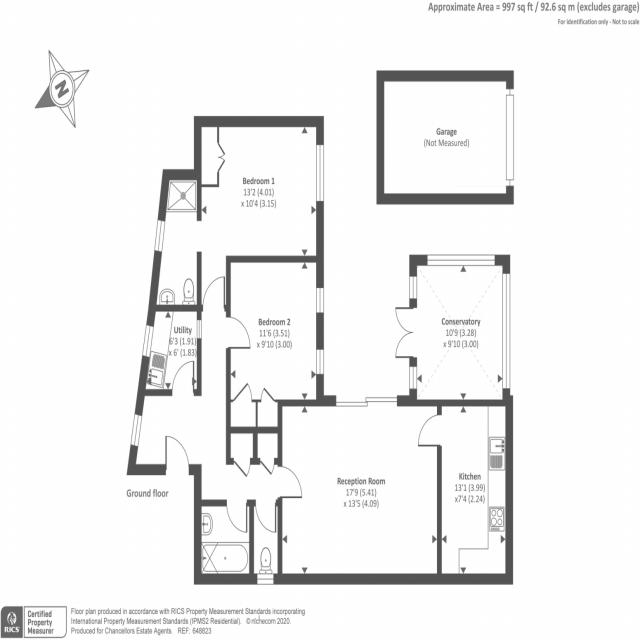DOOR: (395, 305, 417, 359), (165, 435, 190, 475), (202, 275, 226, 312), (417, 412, 442, 447), (171, 360, 195, 396), (226, 316, 251, 349), (278, 464, 302, 498), (225, 499, 248, 533), (255, 500, 277, 533)
ROOM: (277, 395, 443, 585), (194, 116, 324, 312), (417, 399, 514, 585), (226, 255, 324, 406)
SLIDING DOOR: (335, 395, 398, 407)
WINDOW: (502, 272, 511, 390), (426, 254, 496, 266), (316, 144, 325, 203), (130, 413, 143, 449), (154, 217, 166, 254), (142, 323, 154, 359), (316, 349, 325, 375), (409, 274, 418, 300), (316, 285, 324, 313), (257, 573, 275, 585), (409, 365, 417, 389)
